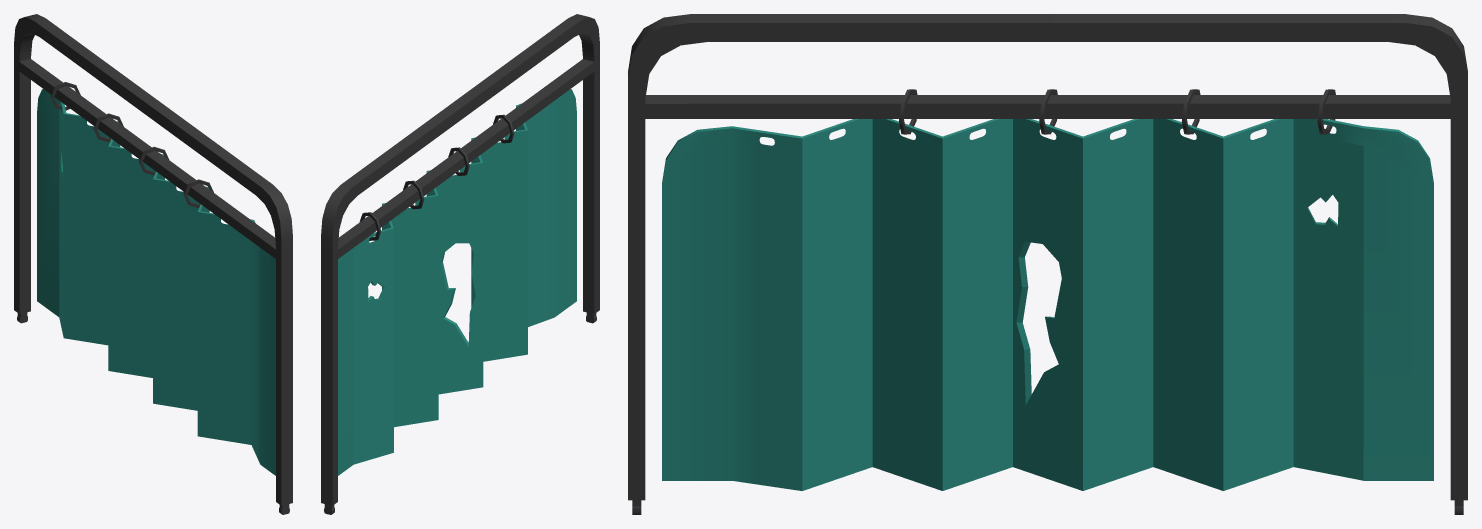
File: biombo 1.fbx
3 views of the same model, side by side, from view 1: azimuth 30°, elevation 25°; view 2: azimuth 150°, elevation 25°; view 3: azimuth 270°, elevation 25° (orthographic). The views are drawn at different scales.
Visible parts, largest first — view 1: Box001, Object001; view 2: Box001, Object001; view 3: Box001, Object001.
Part boxes in pixels (left/top/right/bottom): Box001: left=37, top=89, right=275, bottom=475; Object001: left=14, top=14, right=292, bottom=514; Box001: left=338, top=89, right=576, bottom=475; Object001: left=321, top=14, right=599, bottom=514; Box001: left=662, top=119, right=1433, bottom=490; Object001: left=628, top=14, right=1467, bottom=514.
Bounding box in the file's own units: 5.86 × 51.15 × 78.74.
